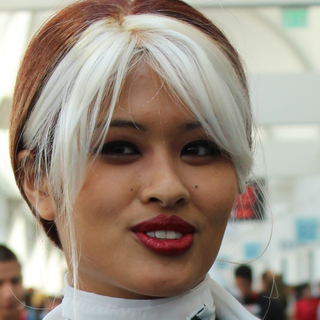eye: (88, 136, 143, 162), (175, 139, 221, 163)
